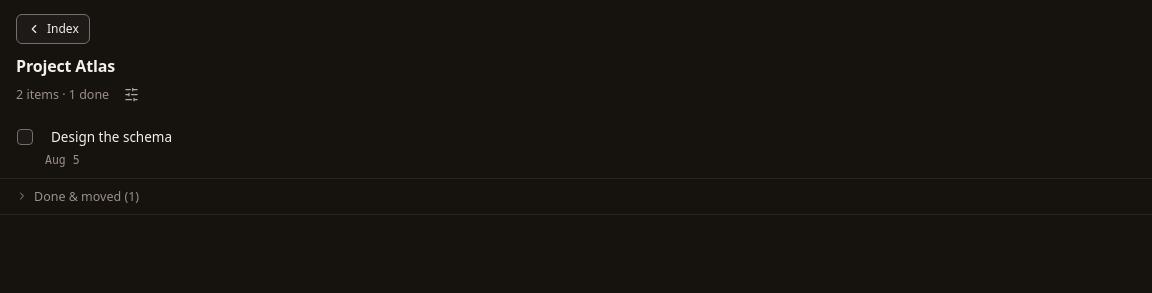
CollectionView arrangement › collapses finished work behind a Done & moved disclosure and keeps the done meta
Expected: the text "2 items · 1 done" is shown, [16, 86, 109, 104]
Expected: the text "Design the schema" is shown, [51, 128, 172, 146]
Click the heading "Done & moved (1)" at (87, 196), box [0, 179, 1151, 215]
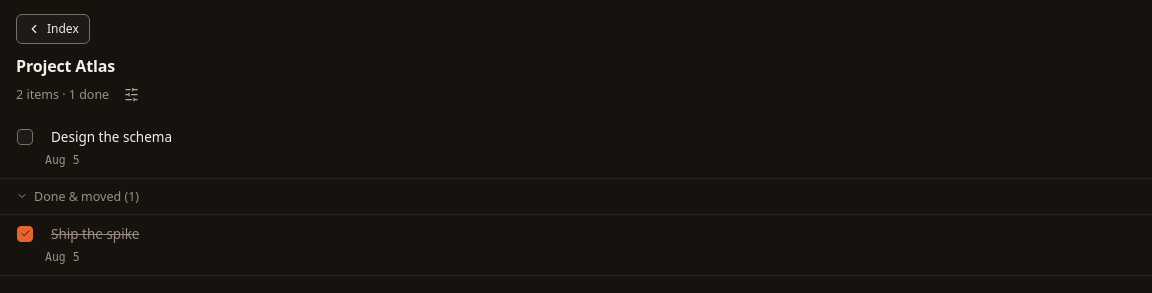
Now the text "Ship the spike" is shown, box [51, 225, 140, 243]
